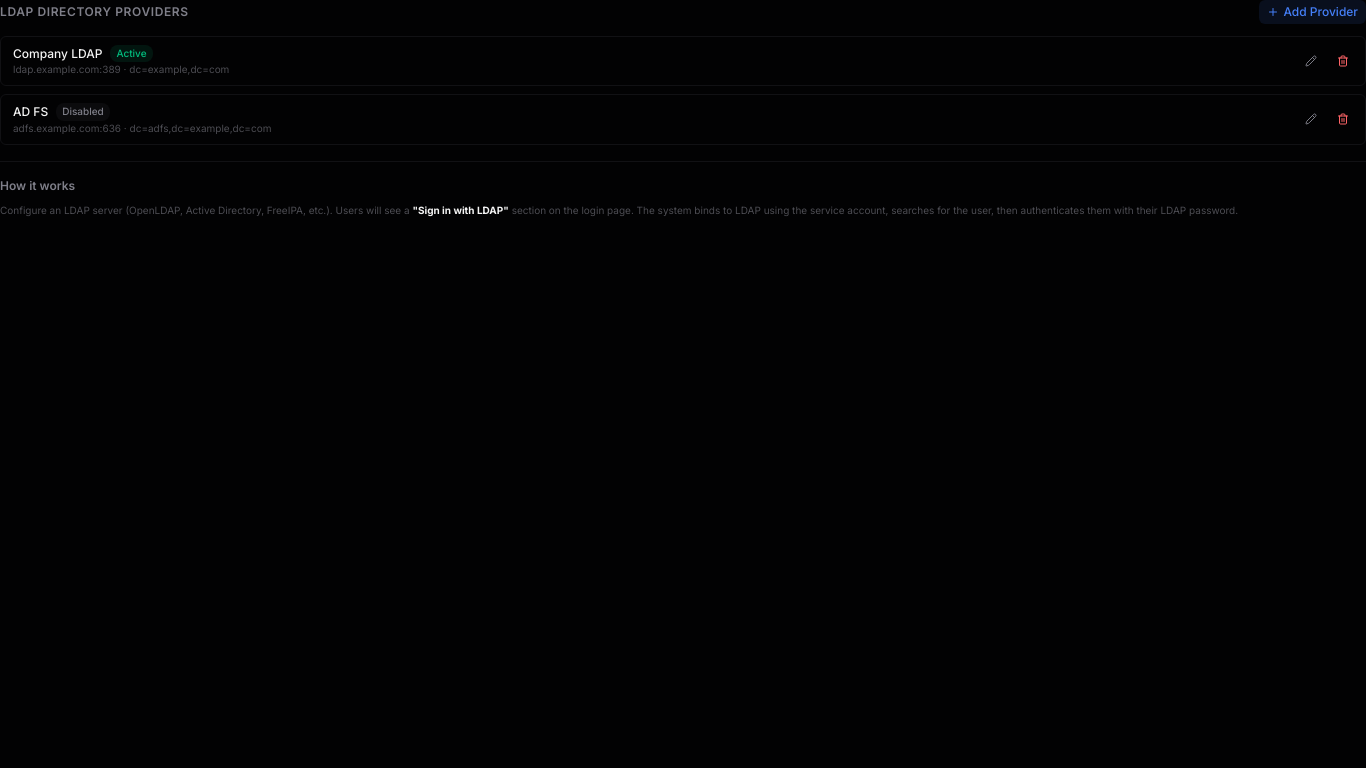
LdapSettings › opens edit dialog with pre-filled data
Expected: the text "Company LDAP" is shown, [13,46,102,61]
Click the button with class "lucide-pencil".
click(1311, 61)  # box [1301,51,1321,71]
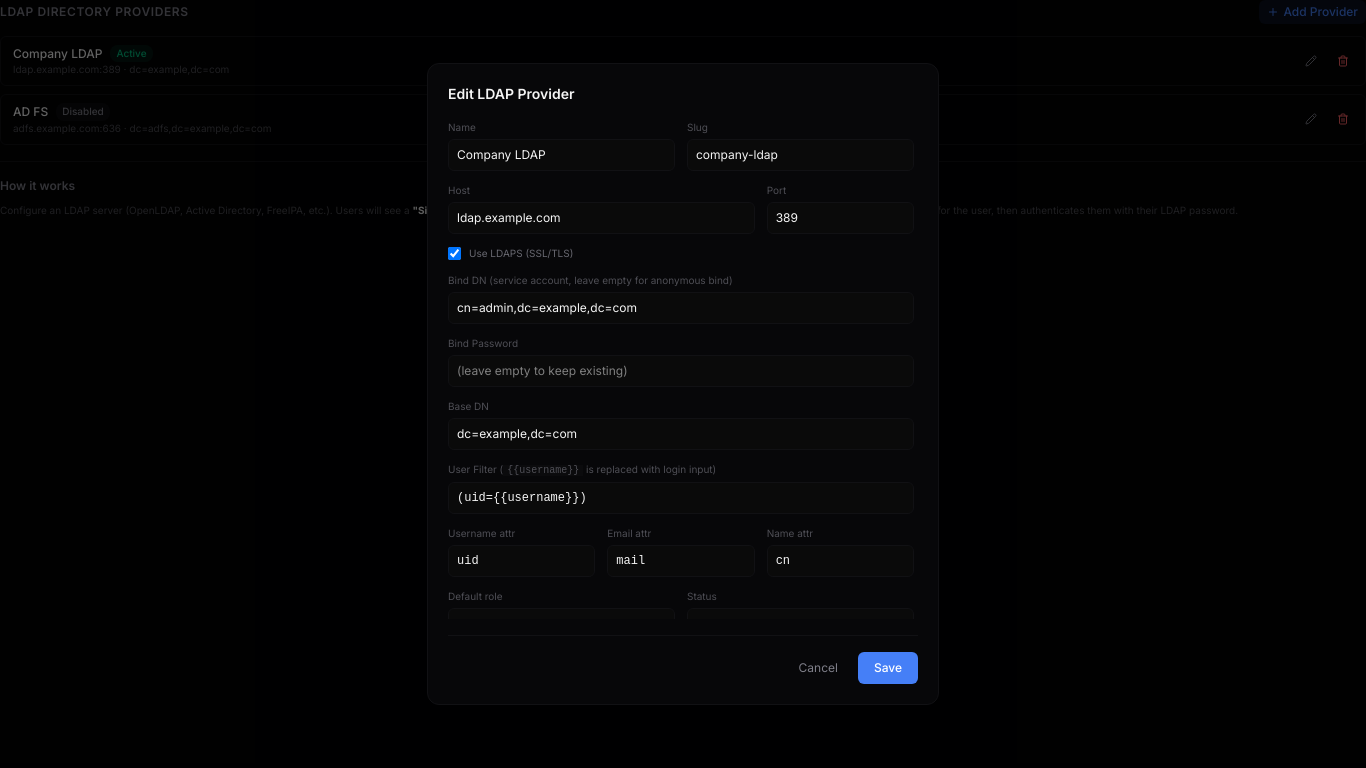
Result: the heading "Edit LDAP Provider" is shown at [448,85,575,102]
Result: the 1st field with placeholder "Company LDAP" holds "Company LDAP" at [448,139,675,171]
